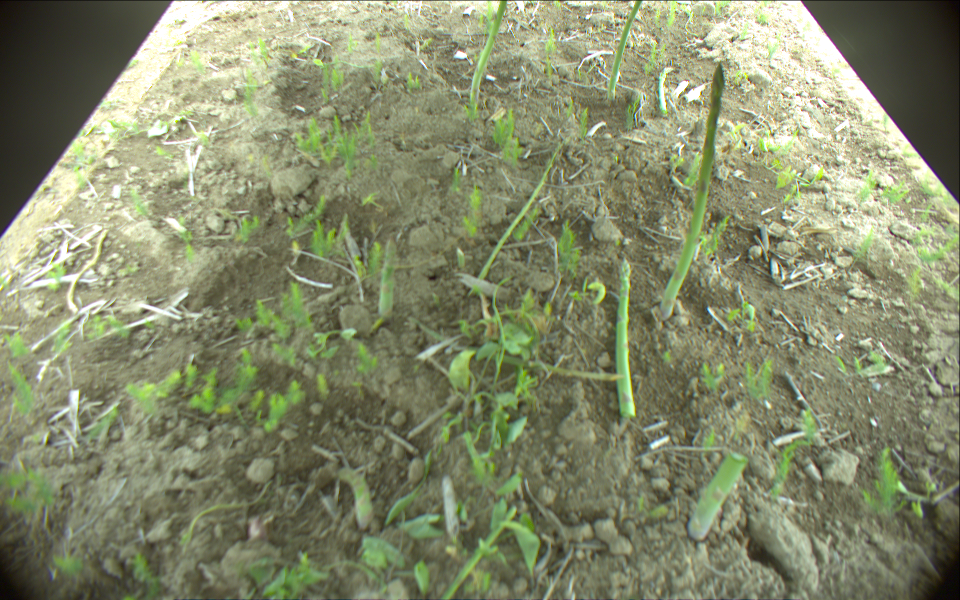aspa: (663, 63, 722, 321), (472, 140, 564, 296), (412, 313, 618, 380), (688, 450, 749, 540), (471, 1, 507, 113), (607, 1, 644, 100), (616, 258, 638, 414), (68, 229, 108, 312), (339, 468, 371, 529), (378, 236, 396, 315), (657, 64, 673, 121)
